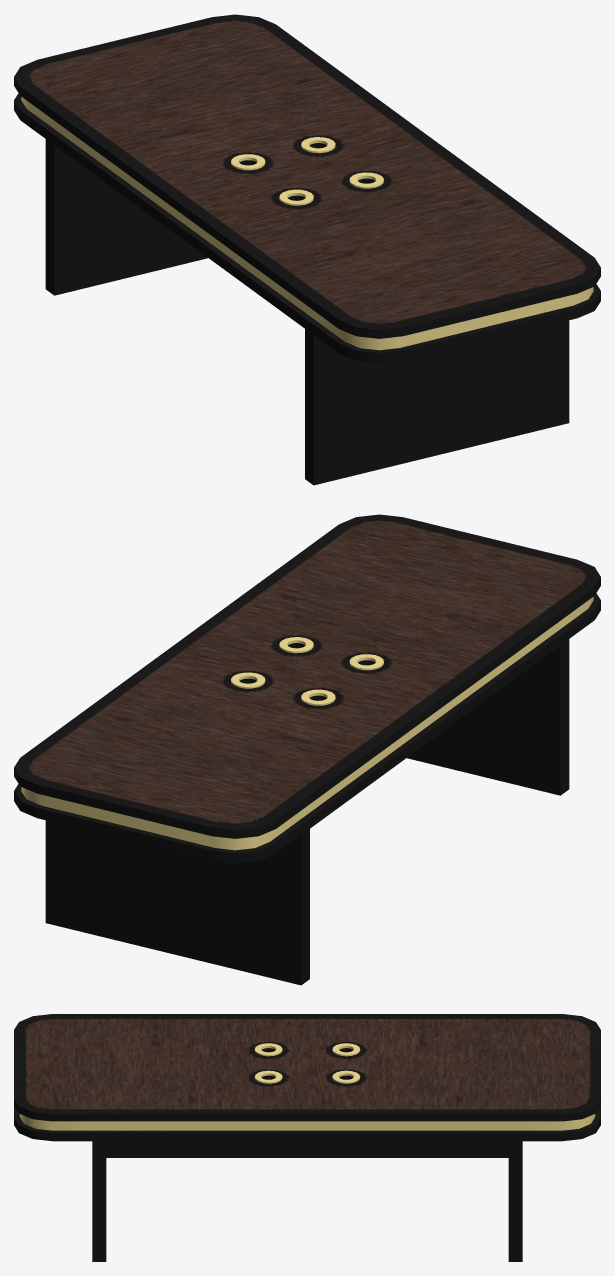
The model's file is PRPT_RKJ_mejaKantor.fbx.
The picture shows the model from 3 angles, top to bottom: view 1: azimuth 30°, elevation 25°; view 2: azimuth 150°, elevation 25°; view 3: azimuth 270°, elevation 25°; orthographic projection. The views are drawn at different scales.
Parts seen in each view (by area): view 1: Cube; view 2: Cube; view 3: Cube.
Part boxes in pixels (left/top/right/bottom): Cube: left=14, top=14, right=600, bottom=485; Cube: left=14, top=514, right=600, bottom=985; Cube: left=14, top=1014, right=600, bottom=1261.
Bounding box in the file's own units: 577 × 400 × 1428.
